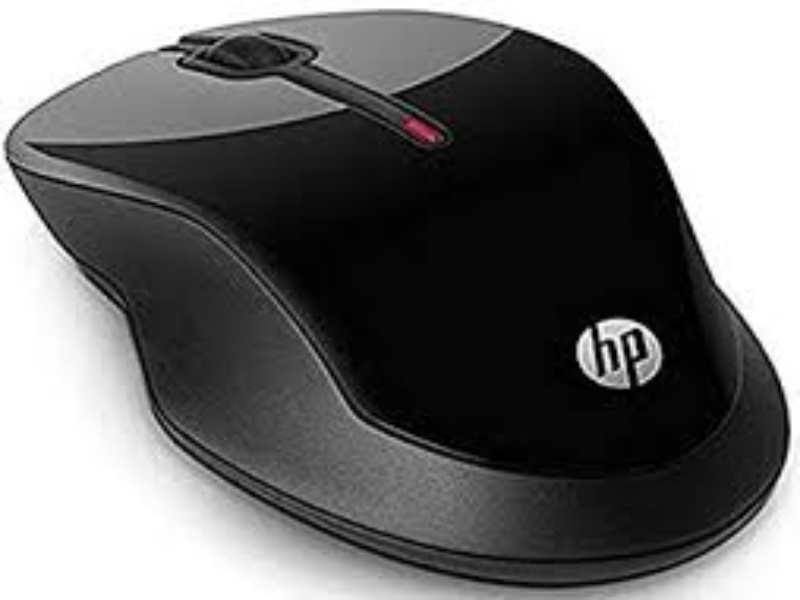hp: (573, 318, 662, 391)
